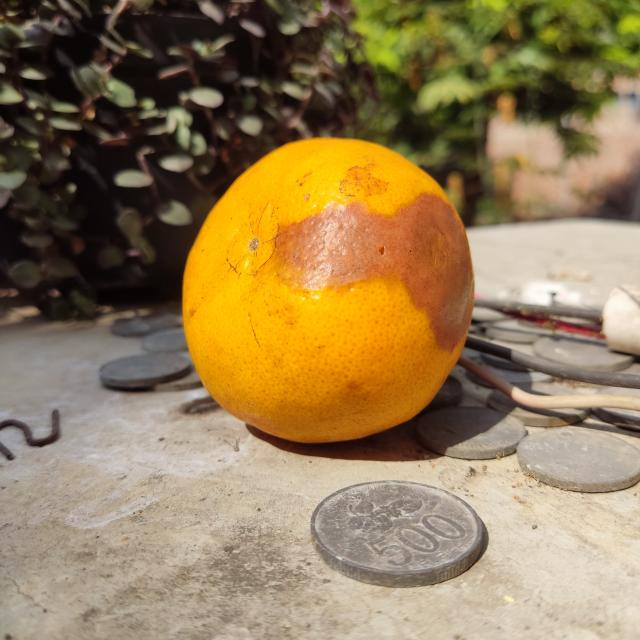orange: (176, 134, 475, 446)
